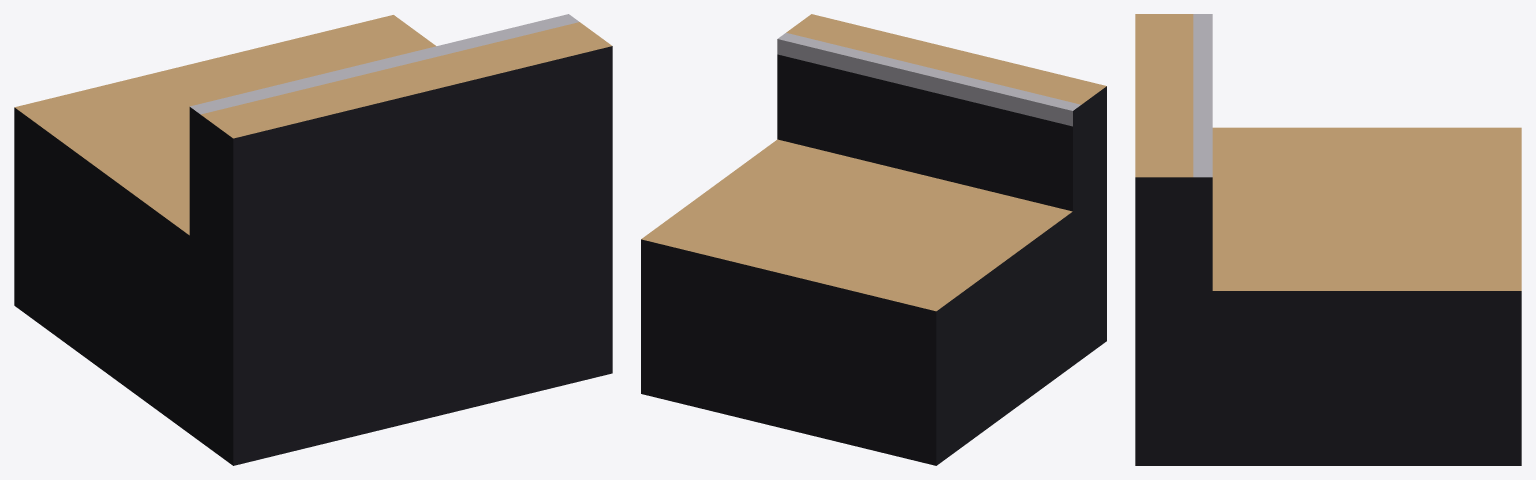
File: Ledge_Block_SML_NG.fbx
The picture shows the model from 3 angles, left to right: view 1: azimuth 30°, elevation 25°; view 2: azimuth 150°, elevation 25°; view 3: azimuth 270°, elevation 25°; orthographic projection. The views are drawn at different scales.
Visible parts, largest first — view 1: Ledge_Block_SML_NG; view 2: Ledge_Block_SML_NG; view 3: Ledge_Block_SML_NG.
Part boxes in pixels (box(x1,y1,x2,y2)): Ledge_Block_SML_NG: box(14, 14, 612, 465); Ledge_Block_SML_NG: box(641, 14, 1106, 465); Ledge_Block_SML_NG: box(1135, 14, 1521, 465).
Bounding box in the file's own units: 10 × 8.25 × 10.
